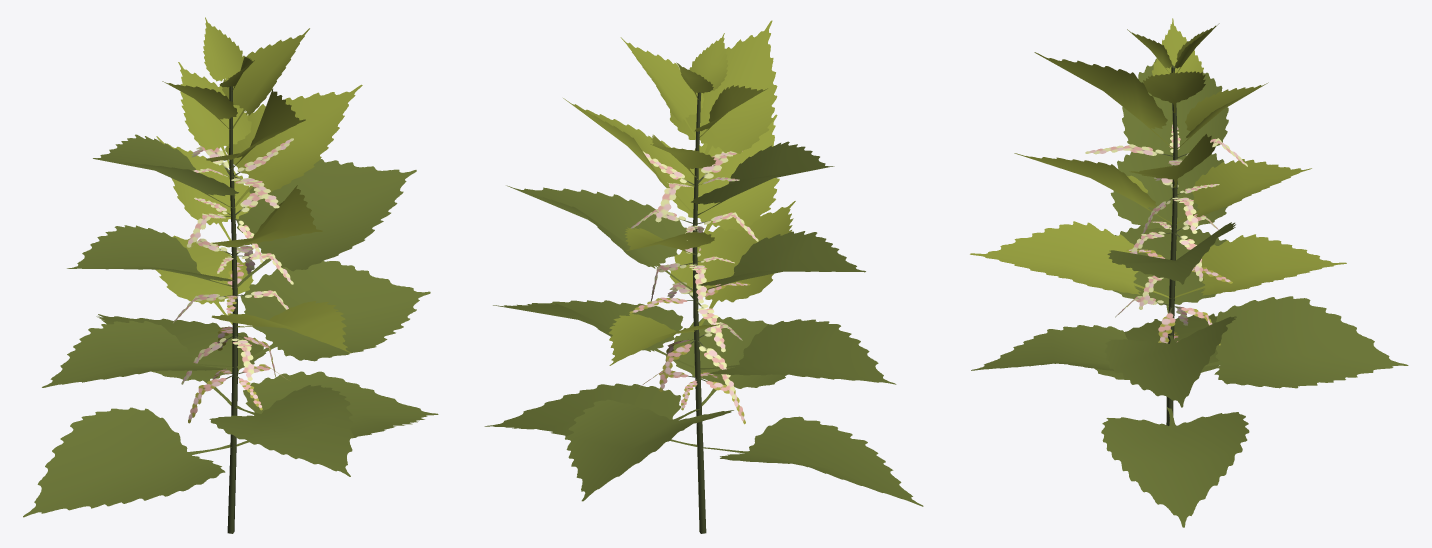
File: Stinging_Nettle_3.fbx
3 renders of one model, left to right at view 1: azimuth 30°, elevation 25°; view 2: azimuth 150°, elevation 25°; view 3: azimuth 270°, elevation 25°, orthographic. The views are drawn at different scales.
Parts seen in each view (by area): view 1: Stinging_Nettle_3; view 2: Stinging_Nettle_3; view 3: Stinging_Nettle_3.
Part boxes in pixels (x1,y1,x2,y2): Stinging_Nettle_3: [23, 17, 438, 533]; Stinging_Nettle_3: [484, 20, 923, 533]; Stinging_Nettle_3: [970, 18, 1408, 527].
Bounding box in the file's own units: 87.9 × 93.52 × 83.24.
1 material, 1 textured.
